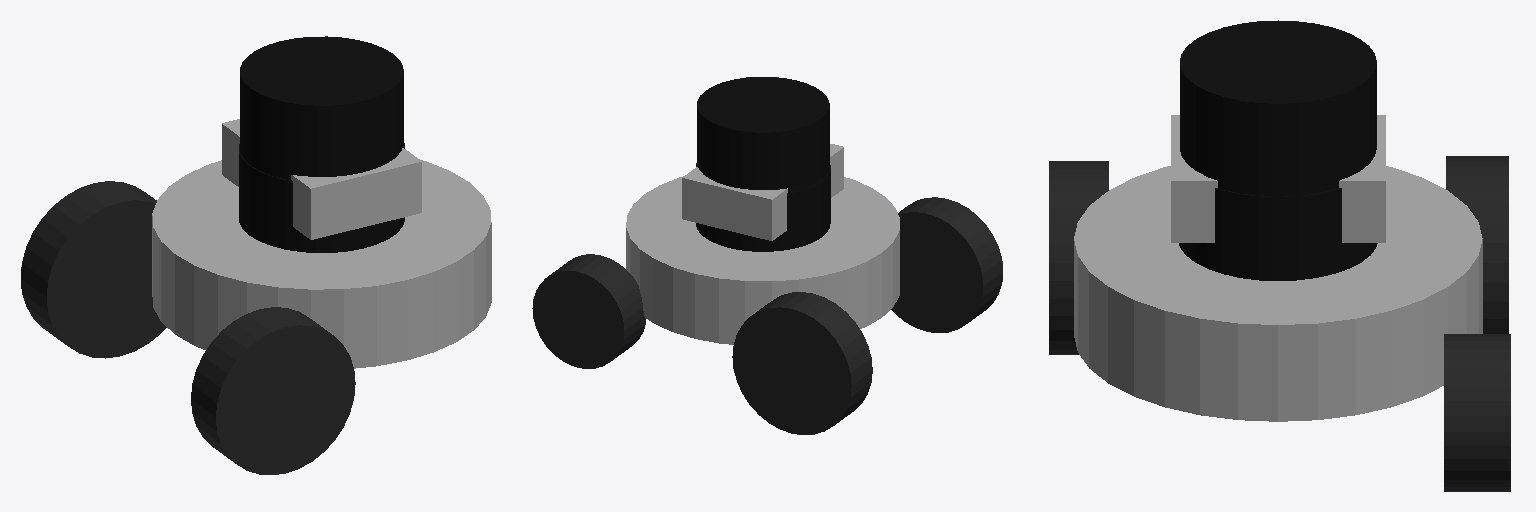
The robot description file, URDF, robot "evolved_robot":
<?xml version="1.0"?>
<robot name="evolved_robot">
  <material name="metal">
    <color rgba="0.7 0.7 0.7 1.0"/>
  </material>
  <material name="plastic">
    <color rgba="0.3 0.3 0.9 1.0"/>
  </material>
  <material name="rubber">
    <color rgba="0.1 0.1 0.1 1.0"/>
  </material>
  <material name="red">
    <color rgba="1.0 0.0 0.0 1.0"/>
  </material>
  <material name="wheel_material">
    <color rgba="0.2 0.2 0.2 1.0"/>
  </material>
  <link name="base_link">
    <visual>
      <geometry><cylinder radius="0.1545791384574599" length="0.08068832829829782"/></geometry>
      <material name="metal"/>
    </visual>
    <collision>
      <geometry><cylinder radius="0.1545791384574599" length="0.08068832829829782"/></geometry>
    </collision>
    <inertial>
      <mass value="5.0"/>
      <inertia ixx="0.06516228038527132" ixy="0" ixz="0" 
               iyy="0.06516228038527132" iyz="0" 
               izz="0.1194735502312528"/>
    </inertial>
  </link>
  <link name="link1">
    <visual>
      <geometry><cylinder radius="0.07595597852159666" length="0.13990125952373855"/></geometry>
      <material name="rubber"/>
    </visual>
    <collision>
      <geometry><cylinder radius="0.07595597852159666" length="0.13990125952373855"/></geometry>
    </collision>
    <inertial>
      <mass value="0.5"/>
      <inertia ixx="0.0030733578696540177" ixy="0" ixz="0" 
               iyy="0.0030733578696540177" iyz="0" 
               izz="0.002884655336586627"/>
    </inertial>
  </link>
  <joint name="joint1" type="prismatic">
    <parent link="base_link"/>
    <child link="link1"/>
    <origin xyz="0 0 0.04034416414914891" rpy="0 0 0"/>
    <axis xyz="-0.7708418140991812 -0.36617926850726723 0.5212635043351548"/>
    <dynamics damping="0.7765132943335169" friction="0.1"/>
    <limit lower="-1.7815898141132733" upper="1.2717079639294546" effort="100" velocity="100"/>
  </joint>
  <link name="link2">
    <visual>
      <geometry>
        <cylinder radius="0.05962278007258792" length="0.05072902790486835"/>
      </geometry>
      <material name="wheel_material"/>
    </visual>
    <collision>
      <geometry>
        <cylinder radius="0.05962278007258792" length="0.05072902790486835"/>
      </geometry>
    </collision>
    <inertial>
      <mass value="1.0"/>
      <inertia ixx="0.0011031718319104561" ixy="0" ixz="0" 
               iyy="0.0011031718319104561" iyz="0" 
               izz="0.0017774379517920937"/>
    </inertial>
  </link>
  <joint name="joint2" type="continuous">
    <parent link="base_link"/>
    <child link="link2"/>
    <origin xyz="0.13822591133937293 0.15093236557554693 -0.04034416414914891" rpy="1.5708 0 0"/>
    <axis xyz="0 1 0"/>
    <dynamics damping="0.6237323492205411" friction="0.1"/>
  </joint>
  <link name="link3">
    <visual>
      <geometry><box size="0.11700741769070341 0.16250170005777426 0.05155470705773513"/></geometry>
      <material name="metal"/>
    </visual>
    <collision>
      <geometry><box size="0.11700741769070341 0.16250170005777426 0.05155470705773513"/></geometry>
    </collision>
    <inertial>
      <mass value="0.5"/>
      <inertia ixx="0.0024220575284563096" ixy="0" ixz="0" 
               iyy="0.0013623853012046348" iyz="0" 
               izz="0.003341461526359464"/>
    </inertial>
  </link>
  <joint name="joint3" type="prismatic">
    <parent link="base_link"/>
    <child link="link3"/>
    <origin xyz="0 0 0.09034416414914892" rpy="0 0 0"/>
    <axis xyz="0.17759231949657553 0.8700938337371786 -0.4597800436604063"/>
    <dynamics damping="0.8238408978236413" friction="0.1"/>
    <limit lower="-0.3965738918540924" upper="1.2014218395971734" effort="100" velocity="100"/>
  </joint>
  <link name="link4">
    <visual>
      <geometry>
        <cylinder radius="0.07741305339524476" length="0.04755214427637371"/>
      </geometry>
      <material name="wheel_material"/>
    </visual>
    <collision>
      <geometry>
        <cylinder radius="0.07741305339524476" length="0.04755214427637371"/>
      </geometry>
    </collision>
    <inertial>
      <mass value="1.0"/>
      <inertia ixx="0.001686629077767176" ixy="0" ixz="0" 
               iyy="0.001686629077767176" iyz="0" 
               izz="0.0029963904179875086"/>
    </inertial>
  </link>
  <joint name="joint4" type="continuous">
    <parent link="base_link"/>
    <child link="link4"/>
    <origin xyz="-0.13822591133937293 0.15093236557554693 -0.04034416414914891" rpy="1.5708 0 0"/>
    <axis xyz="0 1 0"/>
    <dynamics damping="0.4299996638720299" friction="0.1"/>
  </joint>
  <link name="link5">
    <visual>
      <geometry>
        <cylinder radius="0.07342839007796728" length="0.04546495489214325"/>
      </geometry>
      <material name="wheel_material"/>
    </visual>
    <collision>
      <geometry>
        <cylinder radius="0.07342839007796728" length="0.04546495489214325"/>
      </geometry>
    </collision>
    <inertial>
      <mass value="1.0"/>
      <inertia ixx="0.0015201872943059161" ixy="0" ixz="0" 
               iyy="0.0015201872943059161" iyz="0" 
               izz="0.002695864234721062"/>
    </inertial>
  </link>
  <joint name="joint5" type="continuous">
    <parent link="base_link"/>
    <child link="link5"/>
    <origin xyz="-0.13822591133937293 -0.15093236557554693 -0.04034416414914891" rpy="1.5708 0 0"/>
    <axis xyz="0 1 0"/>
    <dynamics damping="0.45649072620437836" friction="0.1"/>
  </joint>
  <link name="link6">
    <visual>
      <geometry><cylinder radius="0.0746792132322128" length="0.09481291345210449"/></geometry>
      <material name="rubber"/>
    </visual>
    <collision>
      <geometry><cylinder radius="0.0746792132322128" length="0.09481291345210449"/></geometry>
    </collision>
    <inertial>
      <mass value="0.5"/>
      <inertia ixx="0.002143370268685265" ixy="0" ixz="0" 
               iyy="0.002143370268685265" iyz="0" 
               izz="0.0027884924444911536"/>
    </inertial>
  </link>
  <joint name="joint6" type="revolute">
    <parent link="base_link"/>
    <child link="link6"/>
    <origin xyz="0 0 0.1403441641491489" rpy="0 0 0"/>
    <axis xyz="0.0 0.6444504999116089 -0.7646460312874693"/>
    <dynamics damping="0.5114113762203718" friction="0.1"/>
    <limit lower="-1.3845749974452444" upper="1.0457040159370472" effort="100" velocity="100"/>
  </joint>
</robot>

--- What the picture shows (computed from the rendered views, not written in the file) ---
The picture shows the robot from 3 angles, left to right: view 1: azimuth 30°, elevation 25°; view 2: azimuth 150°, elevation 25°; view 3: azimuth 270°, elevation 25°; orthographic projection.
Model evolved_robot with 7 links and 6 joints (1 revolute, 3 continuous, 2 prismatic), rooted at base_link, posed all joints at 0.
Visible links, largest first — view 1: base_link, link5, link6, link4, link3, link1; view 2: base_link, link4, link6, link5, link2, link3, link1; view 3: base_link, link6, link1, link2, link3, link4, link5.
Link boxes in pixels (bbox=[...]): base_link: bbox=[152, 159, 491, 368]; link5: bbox=[191, 307, 355, 474]; link6: bbox=[240, 36, 403, 179]; link4: bbox=[21, 181, 166, 358]; link3: bbox=[222, 119, 421, 239]; link1: bbox=[239, 143, 404, 252]; base_link: bbox=[626, 176, 899, 344]; link4: bbox=[732, 292, 872, 434]; link6: bbox=[697, 77, 829, 192]; link5: bbox=[891, 197, 1002, 332]; link2: bbox=[532, 254, 645, 368]; link3: bbox=[682, 144, 843, 240]; link1: bbox=[696, 163, 830, 251]; base_link: bbox=[1074, 166, 1482, 421]; link6: bbox=[1180, 20, 1376, 196]; link1: bbox=[1179, 188, 1377, 280]; link2: bbox=[1444, 334, 1510, 491]; link3: bbox=[1171, 115, 1385, 242]; link4: bbox=[1446, 156, 1508, 333]; link5: bbox=[1049, 161, 1108, 354].
Size in the robot's own frame: 0.4135 by 0.35 by 0.3055 metres.
Geometry: primitives only (box / cylinder / sphere), no mesh files.